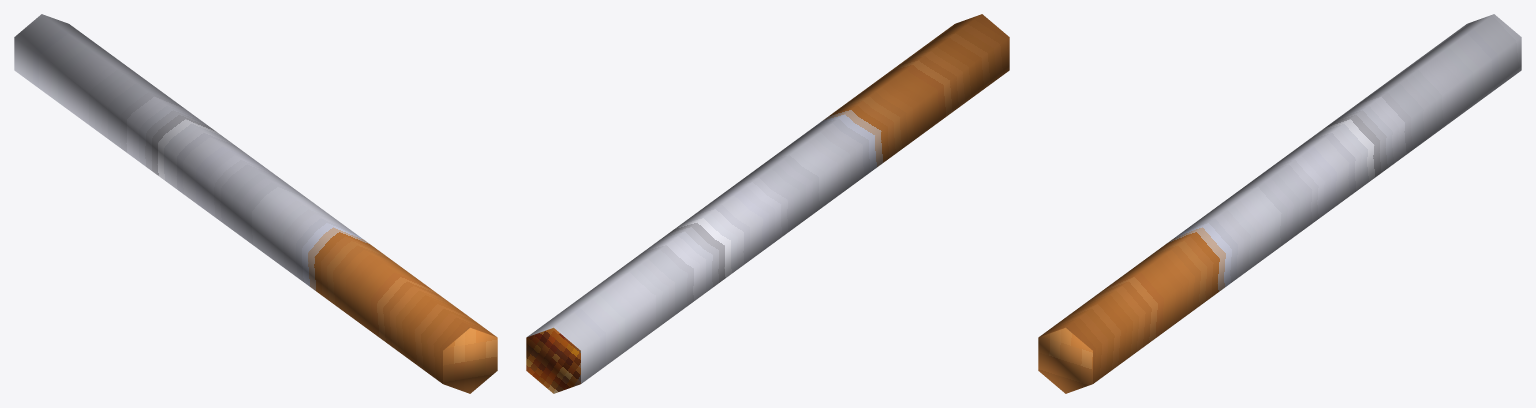
File: Cigarette.glb
3 renders of one model, left to right at view 1: azimuth 30°, elevation 25°; view 2: azimuth 150°, elevation 25°; view 3: azimuth 330°, elevation 25°, orthographic.
Visible parts, largest first — view 1: Cigarette; view 2: Cigarette; view 3: Cigarette.
Part boxes in pixels (x1,y1,x2,y2): Cigarette: (14, 14, 497, 393); Cigarette: (526, 14, 1009, 393); Cigarette: (1038, 14, 1521, 393).
Size of the model in its own units: 0.0131 by 0.0152 by 0.1777.
Materials: 2 (2 with a texture image).
